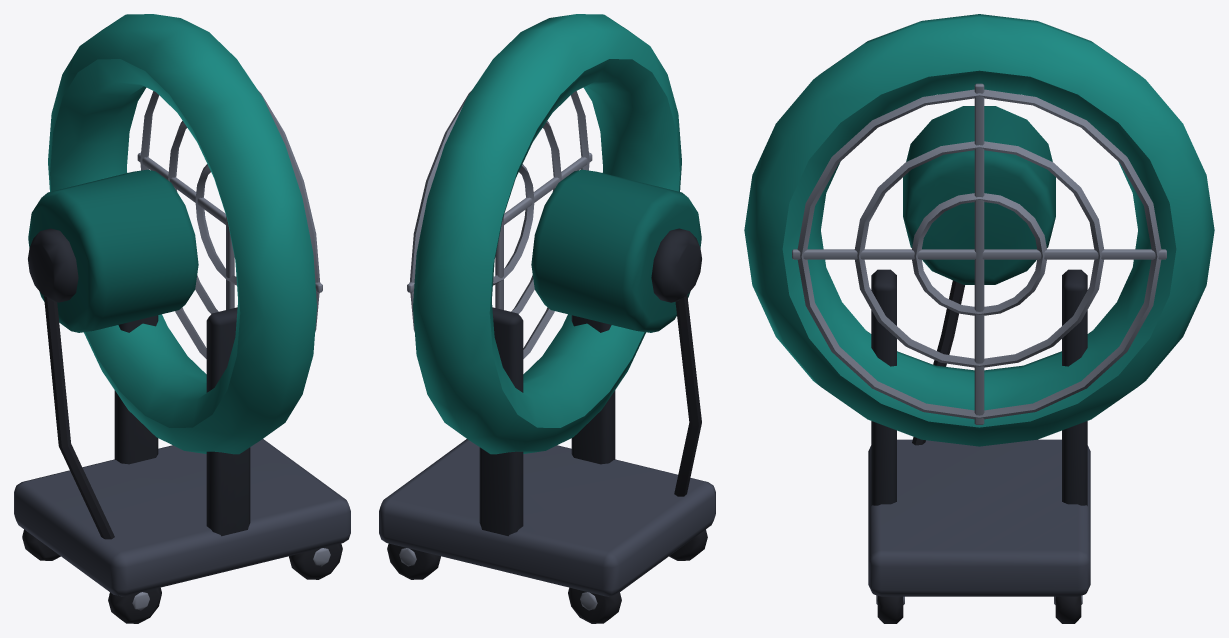
File: SM_Station_WindMachine.fbx
3 renders of one model, left to right at view 1: azimuth 30°, elevation 25°; view 2: azimuth 150°, elevation 25°; view 3: azimuth 270°, elevation 25°, orthographic. The views are drawn at different scales.
Parts seen in each view (by area): view 1: SM_Station_WindMachine; view 2: SM_Station_WindMachine; view 3: SM_Station_WindMachine.
Boxes of the visible parts, x1,y1,x2,y2 form: SM_Station_WindMachine: (14, 14, 350, 623); SM_Station_WindMachine: (379, 14, 715, 623); SM_Station_WindMachine: (744, 14, 1214, 623).
Bounding box in the file's own units: 98.09 × 194 × 148.
